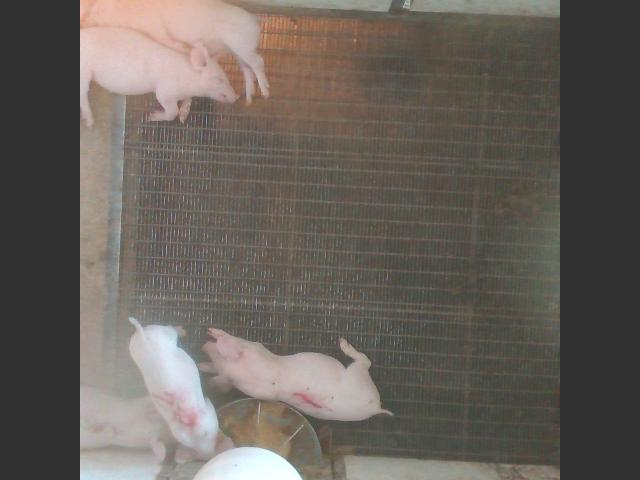pig-1: (204, 328, 391, 420)
pig-3: (82, 385, 176, 460)
pig-5: (129, 318, 233, 462)
